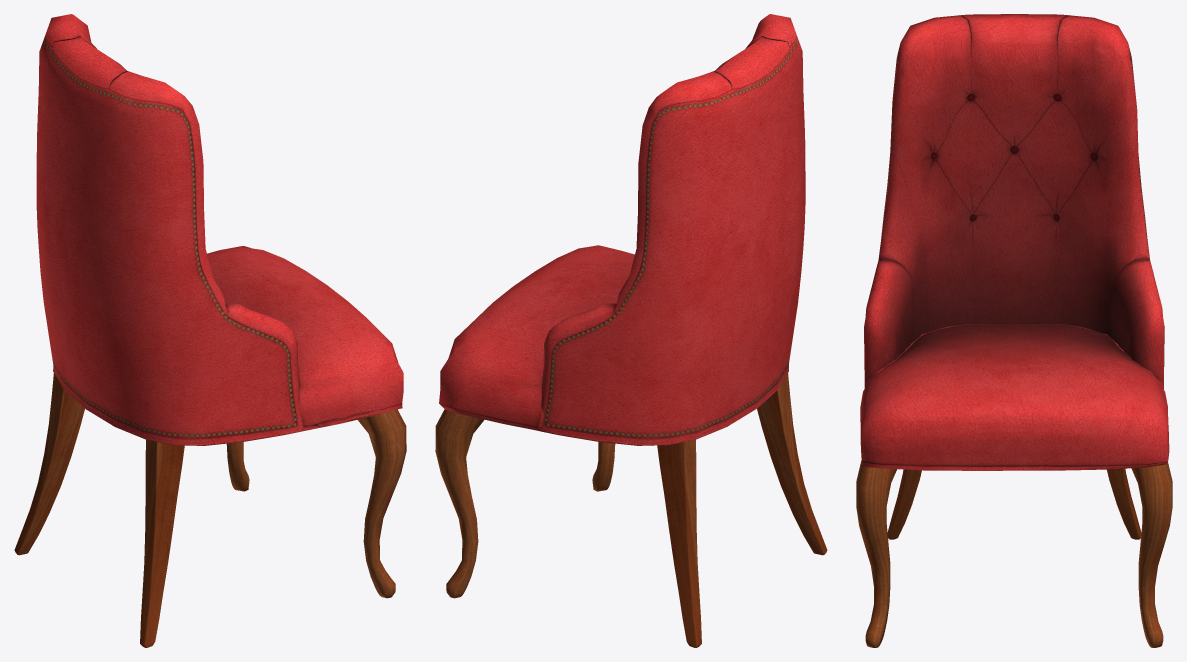
Rendered from CadeiraPai.glb.
3 renders of one model, left to right at view 1: azimuth 30°, elevation 25°; view 2: azimuth 150°, elevation 25°; view 3: azimuth 270°, elevation 25°, orthographic. The views are drawn at different scales.
Visible parts, largest first — view 1: CadeiraPai; view 2: CadeiraPai; view 3: CadeiraPai.
Part boxes in pixels (x1=…): CadeiraPai: x1=14, y1=14, x2=406, y2=647; CadeiraPai: x1=435, y1=14, x2=827, y2=647; CadeiraPai: x1=856, y1=14, x2=1172, y2=647.
Size of the model in its own units: 0.5833 by 1.13 by 0.6139.
Materials: 1 (1 with a texture image).
